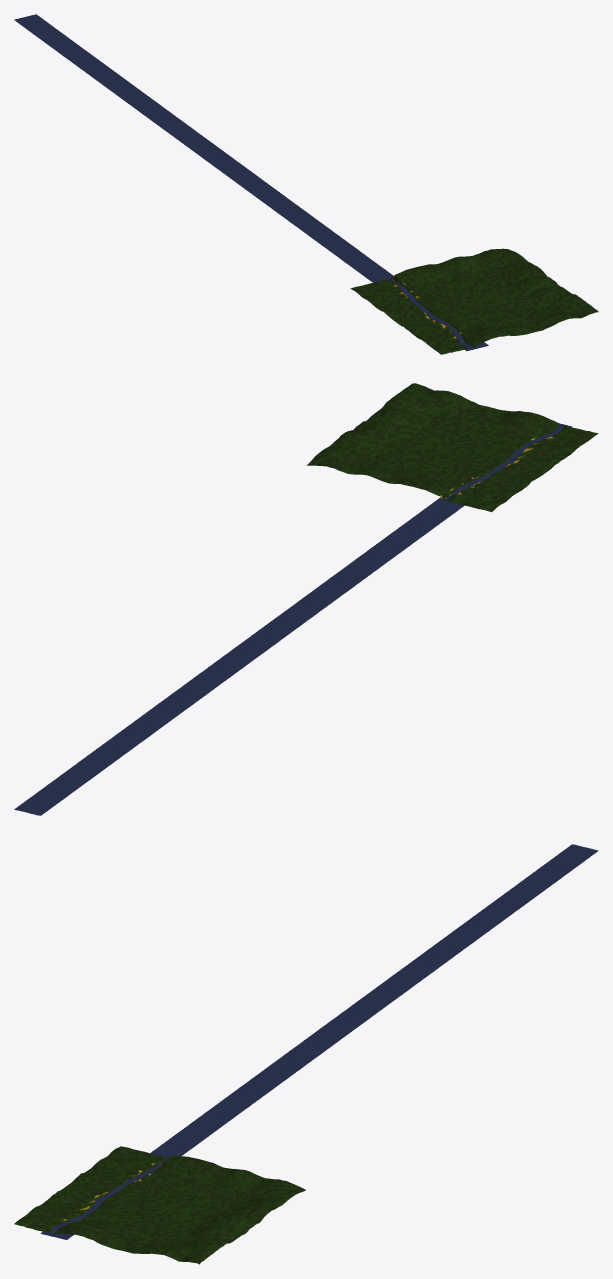
File: Plane_camp1.obj
The picture shows the model from 3 angles, top to bottom: view 1: azimuth 30°, elevation 25°; view 2: azimuth 150°, elevation 25°; view 3: azimuth 330°, elevation 25°; orthographic projection. The views are drawn at different scales.
Parts seen in each view (by area): view 1: Plane_Plane.003, Plane.001_Plane.005; view 2: Plane_Plane.003, Plane.001_Plane.005; view 3: Plane_Plane.003, Plane.001_Plane.005.
Boxes of the visible parts, <box> form: Plane_Plane.003: <box>350,248,598,354</box>; Plane.001_Plane.005: <box>14,14,488,351</box>; Plane_Plane.003: <box>307,383,598,512</box>; Plane.001_Plane.005: <box>14,423,572,815</box>; Plane_Plane.003: <box>14,1146,305,1264</box>; Plane.001_Plane.005: <box>40,844,598,1239</box>.
Bounding box in the file's own units: 13.93 × 0.8627 × 69.1.
